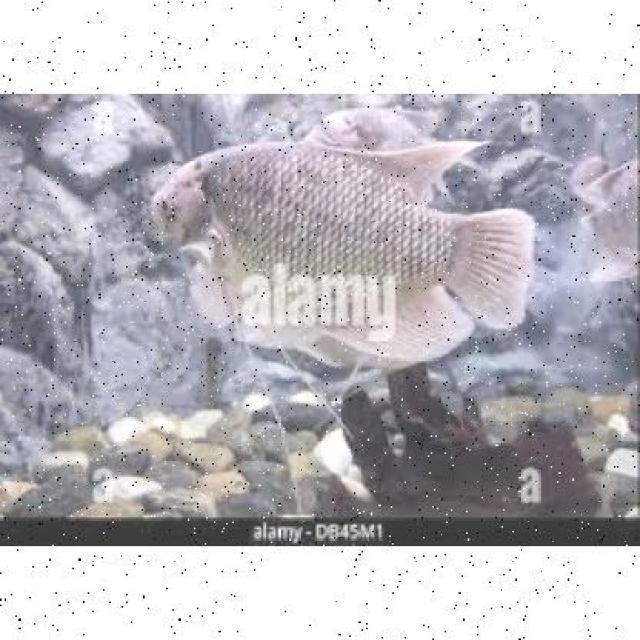gurame: (148, 138, 508, 354)
